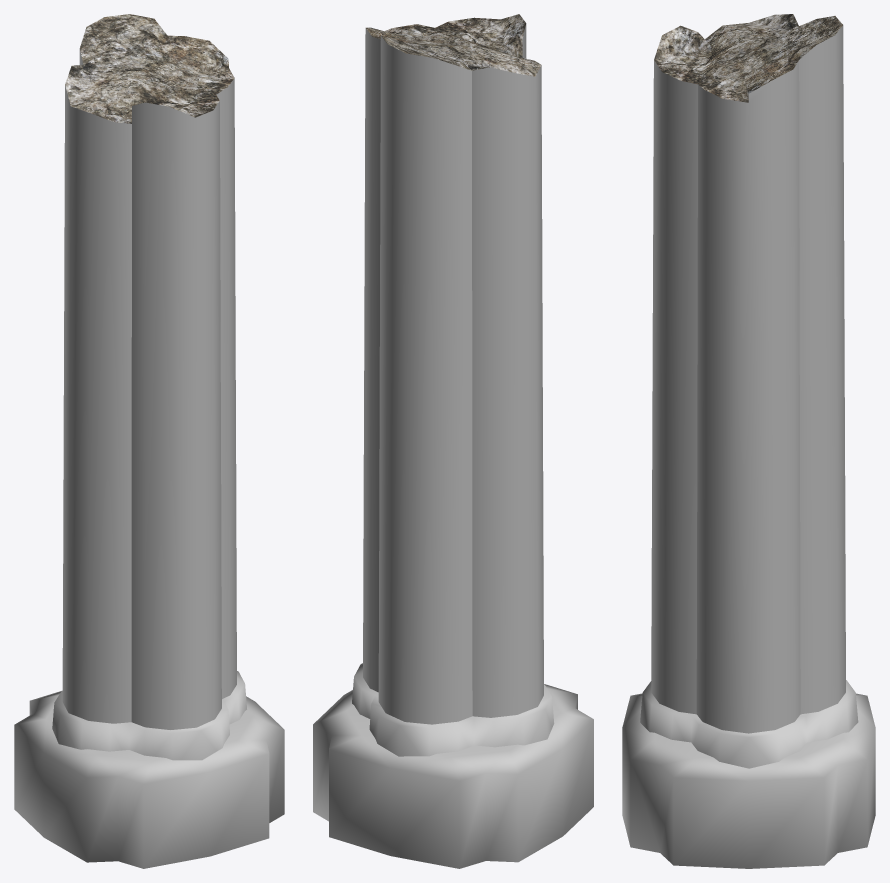
The model's file is Ruins_17C.fbx.
3 renders of one model, left to right at view 1: azimuth 30°, elevation 25°; view 2: azimuth 150°, elevation 25°; view 3: azimuth 270°, elevation 25°, orthographic. The views are drawn at different scales.
Parts seen in each view (by area): view 1: polySurface3168; view 2: polySurface3168; view 3: polySurface3168.
Part boxes in pixels (bbox=[...]): polySurface3168: bbox=[14, 14, 284, 868]; polySurface3168: bbox=[313, 14, 593, 868]; polySurface3168: bbox=[622, 14, 875, 868].
Size of the model in its own units: 1.12 by 3.92 by 1.12.
